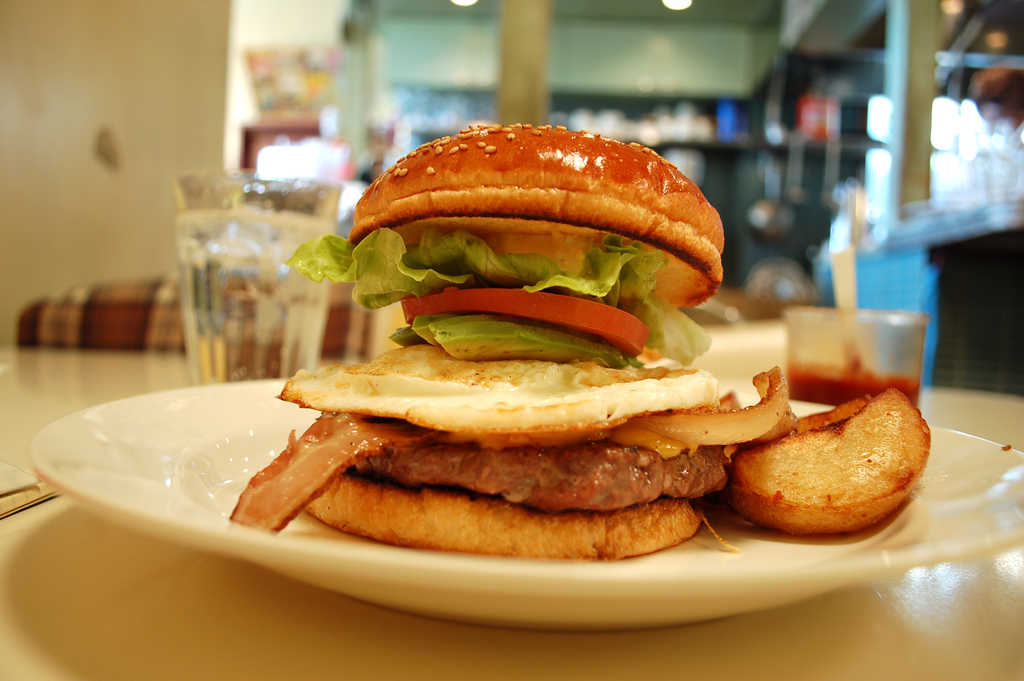Hamburger: (225, 121, 791, 563)
